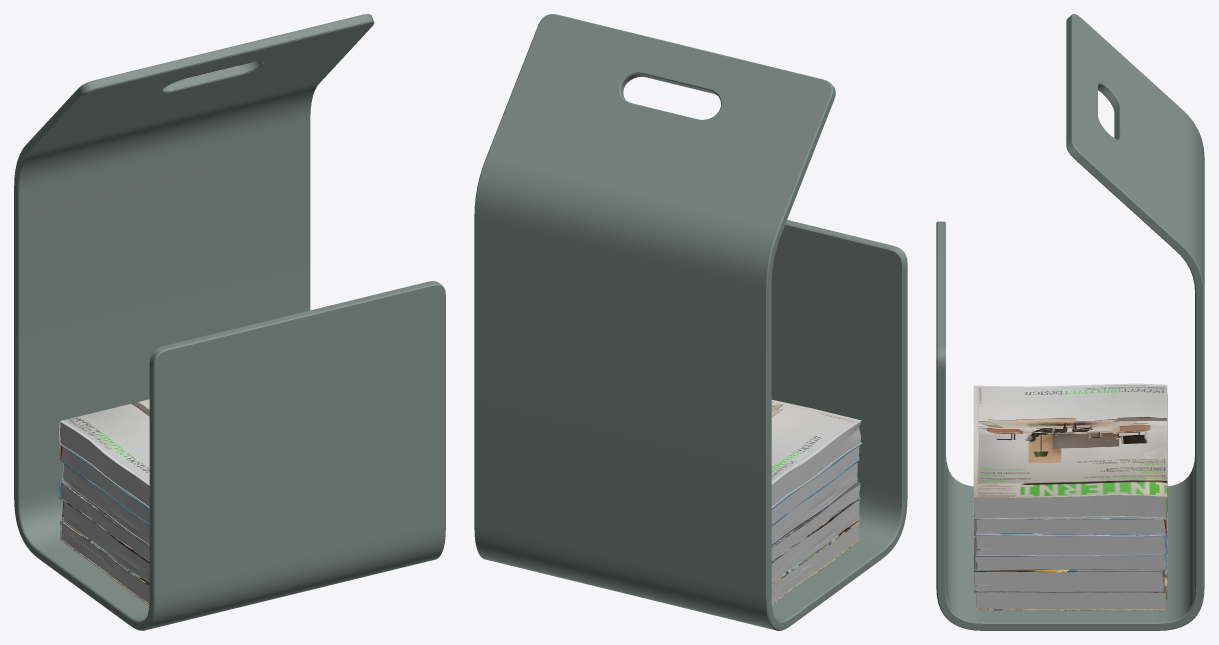
The model's file is Artek_Kanto_Rack_m_mat(5).fbx.
The picture shows the model from 3 angles, left to right: view 1: azimuth 30°, elevation 25°; view 2: azimuth 150°, elevation 25°; view 3: azimuth 270°, elevation 25°; orthographic projection. The views are drawn at different scales.
Visible parts, largest first — view 1: Artek_Kanto_Rack_m_mat5; view 2: Artek_Kanto_Rack_m_mat5; view 3: Artek_Kanto_Rack_m_mat5.
Part boxes in pixels (bbox=[...]): Artek_Kanto_Rack_m_mat5: bbox=[14, 14, 445, 630]; Artek_Kanto_Rack_m_mat5: bbox=[474, 14, 907, 630]; Artek_Kanto_Rack_m_mat5: bbox=[936, 14, 1204, 630].
Bounding box in the file's own units: 34 × 28.3 × 56.5.
